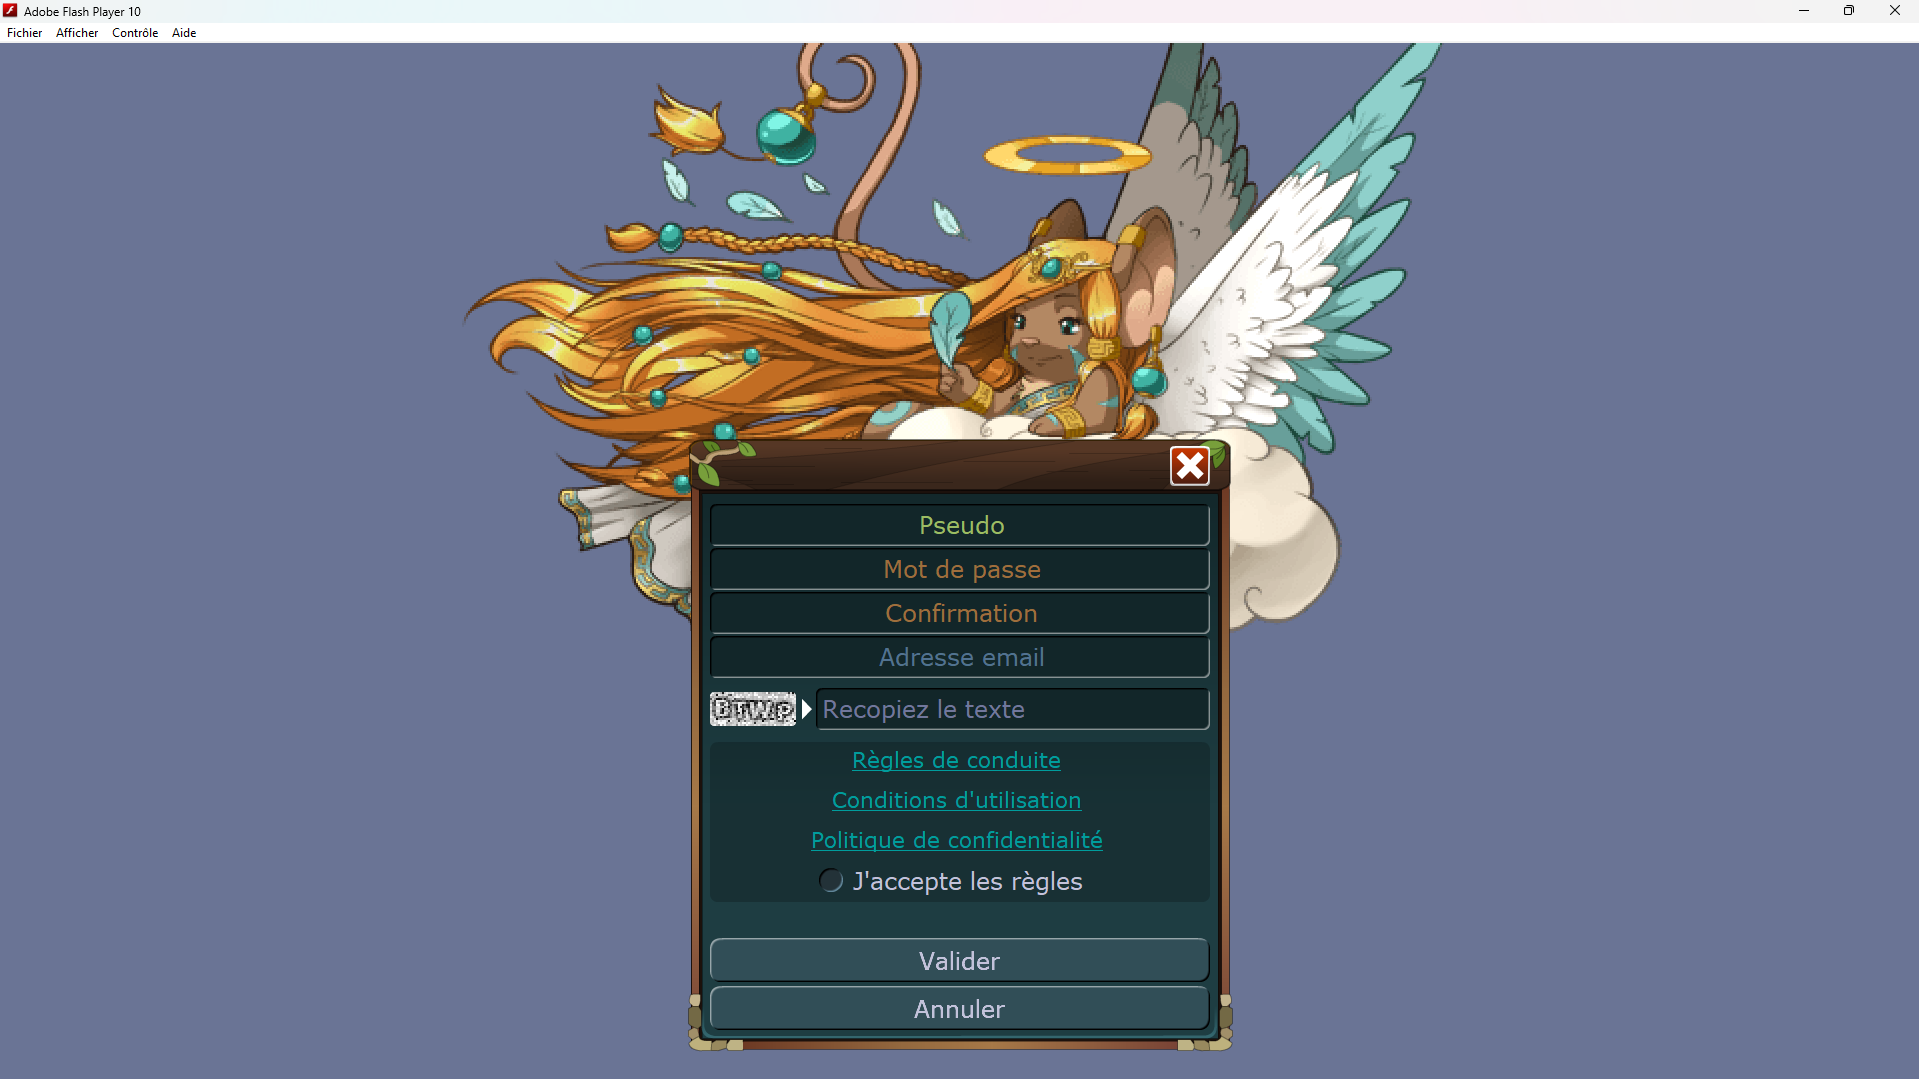B: (712, 696, 731, 721)
CAPTCHA: (708, 689, 797, 729)
P: (775, 698, 793, 723)
T: (731, 698, 749, 725)
W: (749, 696, 774, 723)
